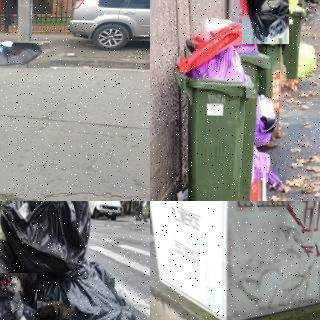Garbage: (0, 201, 90, 276), (38, 269, 119, 320), (242, 0, 289, 44), (0, 233, 29, 290), (0, 41, 51, 67)
